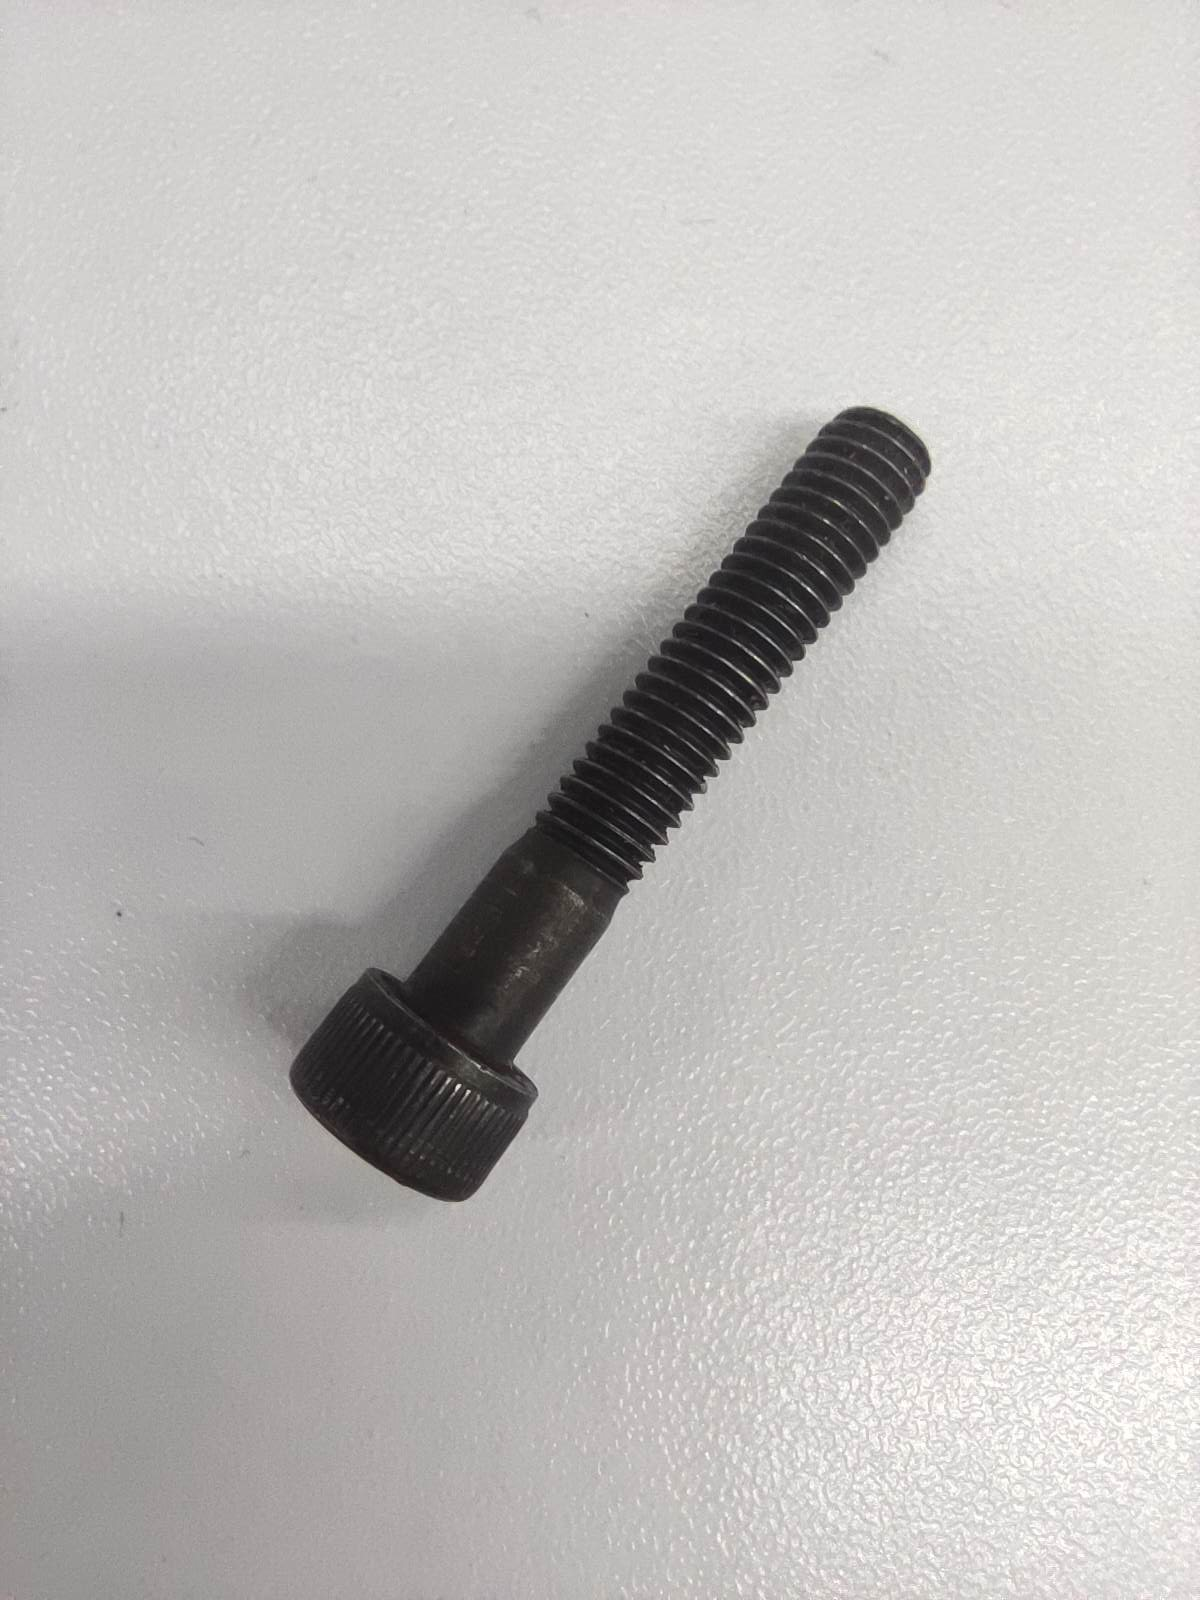螺钉: (287, 406, 933, 1203)
